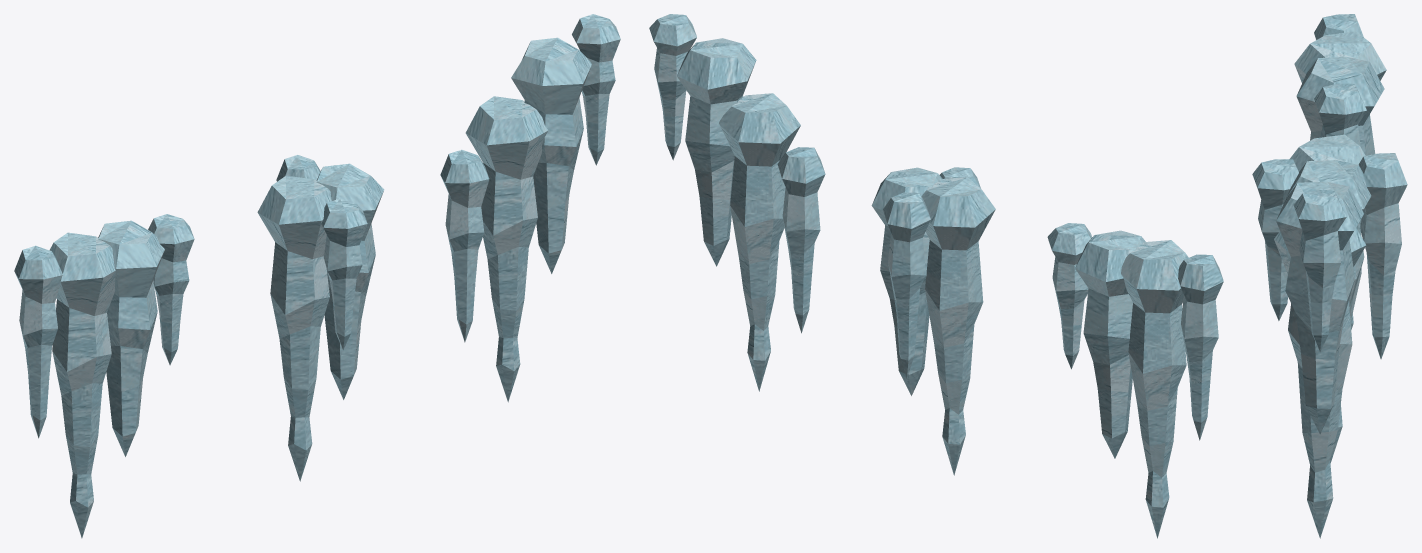
File: Iciclesfbx.fbx
3 views of the same model, side by side, from view 1: azimuth 30°, elevation 25°; view 2: azimuth 150°, elevation 25°; view 3: azimuth 270°, elevation 25° (orthographic). The views are drawn at different scales.
Parts seen in each view (by area): view 1: icicle_C, icicle_A, icicle_B; view 2: icicle_C, icicle_A, icicle_B; view 3: icicle_C, icicle_B, icicle_A.
Part boxes in pixels (bbox=[...]): icicle_C: bbox=[440, 14, 620, 402]; icicle_A: bbox=[14, 214, 194, 538]; icicle_B: bbox=[257, 155, 384, 481]; icicle_C: bbox=[649, 14, 825, 391]; icicle_A: bbox=[1047, 223, 1223, 538]; icicle_B: bbox=[871, 167, 995, 475]; icicle_C: bbox=[1274, 181, 1366, 538]; icicle_B: bbox=[1252, 134, 1407, 463]; icicle_A: bbox=[1294, 14, 1386, 329].
Size of the model in its own units: 678 by 440 by 142.
